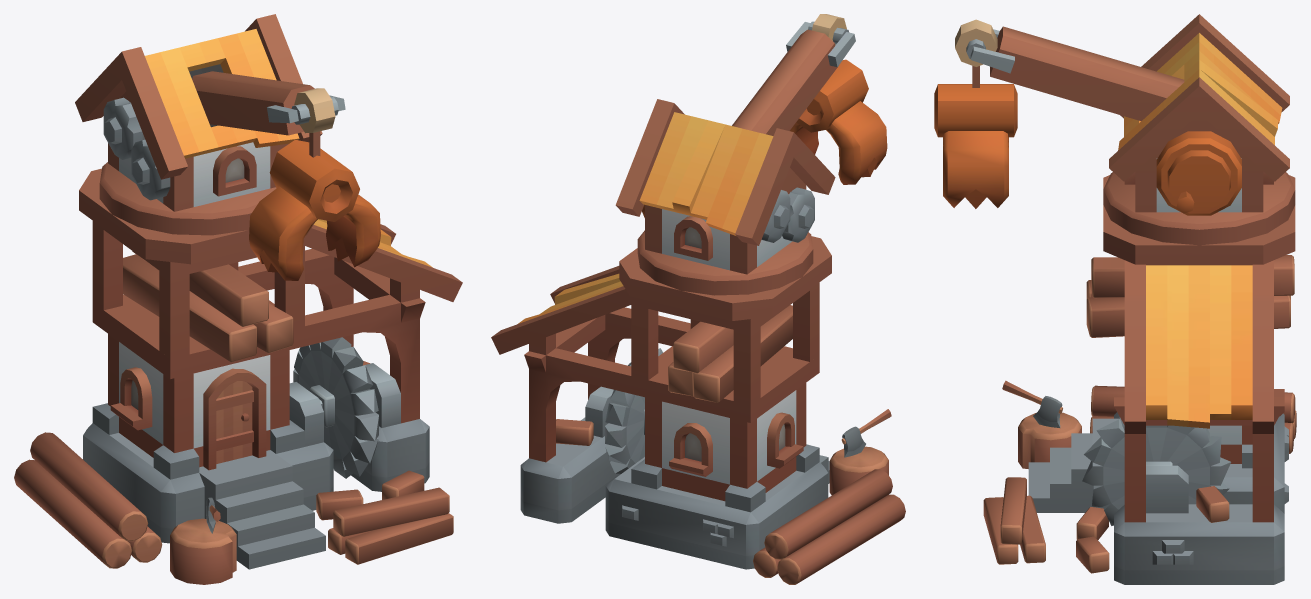
The model's file is building_lumbermill_yellow.gltf.
3 views of the same model, side by side, from view 1: azimuth 30°, elevation 25°; view 2: azimuth 150°, elevation 25°; view 3: azimuth 270°, elevation 25° (orthographic). The views are drawn at different scales.
Parts seen in each view (by area): view 1: building_lumbermill_yellow, building_lumbermill_top_yellow, building_lumbermill_saw_yellow; view 2: building_lumbermill_yellow, building_lumbermill_top_yellow, building_lumbermill_saw_yellow; view 3: building_lumbermill_yellow, building_lumbermill_top_yellow, building_lumbermill_saw_yellow.
Part boxes in pixels (x1=…): building_lumbermill_yellow: x1=14, y1=168, x2=462, y2=584; building_lumbermill_top_yellow: x1=75, y1=14, x2=380, y2=280; building_lumbermill_saw_yellow: x1=293, y1=337, x2=378, y2=478; building_lumbermill_yellow: x1=491, y1=236, x2=905, y2=584; building_lumbermill_top_yellow: x1=615, y1=14, x2=887, y2=295; building_lumbermill_saw_yellow: x1=605, y1=348, x2=662, y2=474; building_lumbermill_yellow: x1=983, y1=175, x2=1296, y2=584; building_lumbermill_top_yellow: x1=934, y1=14, x2=1295, y2=245; building_lumbermill_saw_yellow: x1=1082, y1=417, x2=1231, y2=525.
Size of the model in its own units: 1.37 by 1.71 by 1.19.
Materials: 1 (1 with a texture image).
